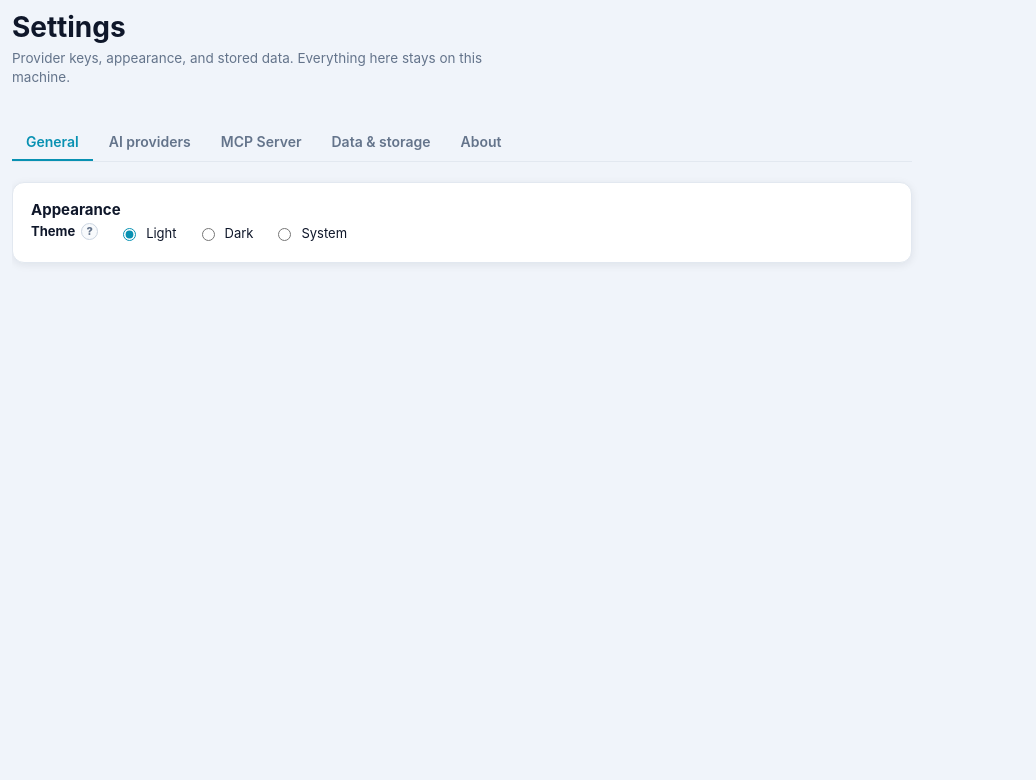
it: SettingsPage › Chat history › asks once before deleting every conversation
Step 1. Click the tab "Data & storage" → (381,142), box [318, 124, 445, 161]
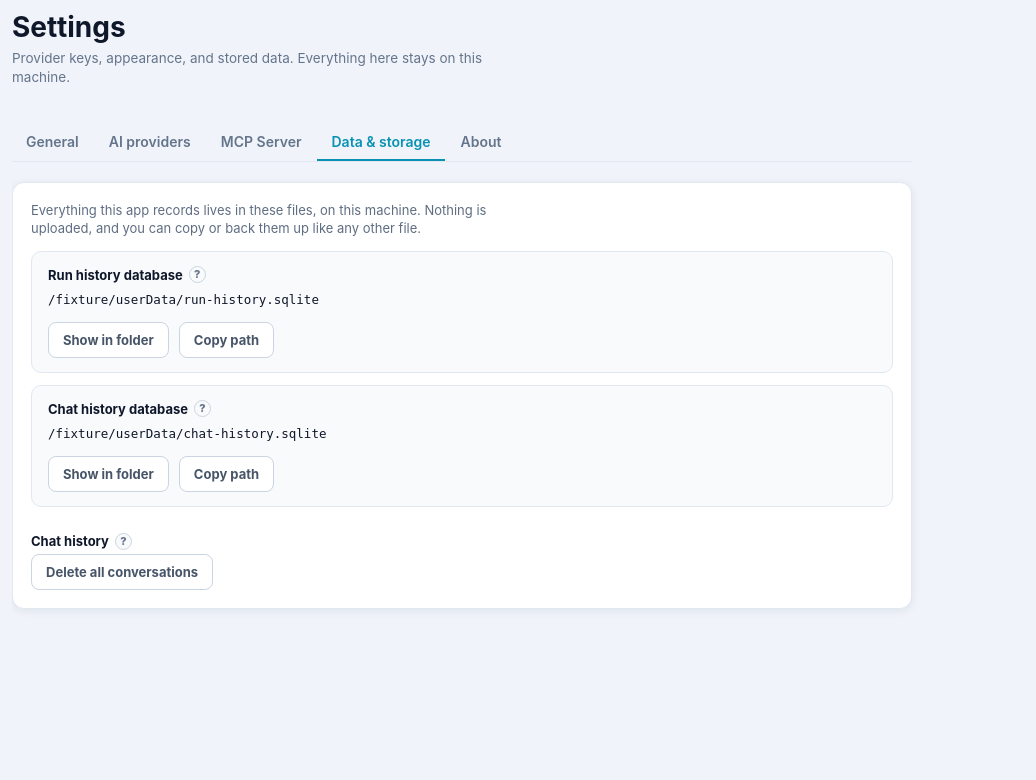
Step 2. Click the button "Delete all conversations" → (122,572), box [31, 554, 213, 590]
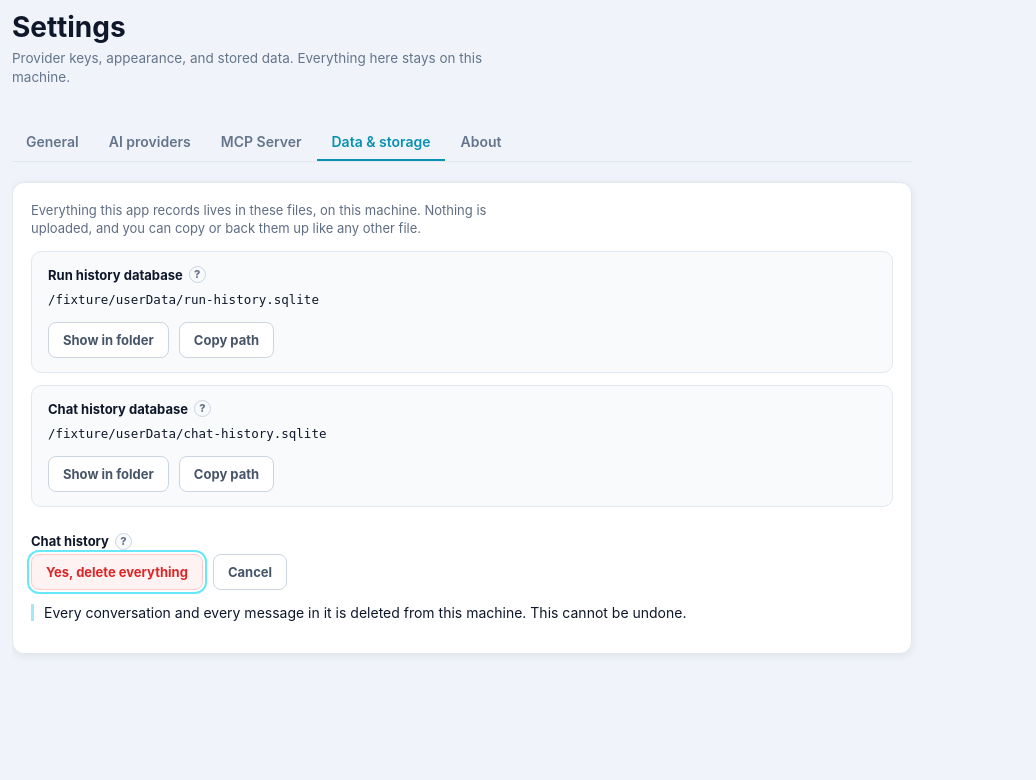
Result: the button "Yes, delete everything" is shown at [31, 554, 203, 590]
